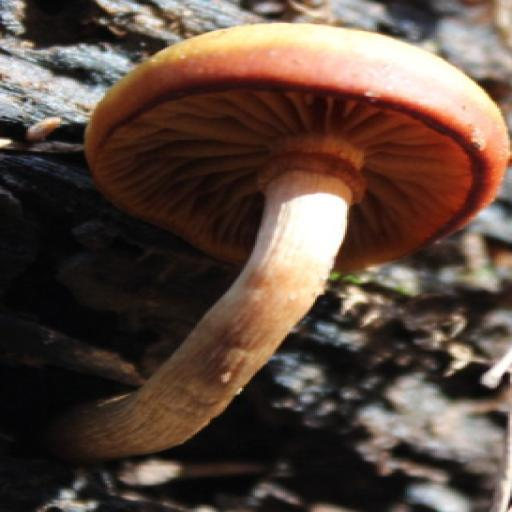mushroom: (74, 14, 509, 360)
